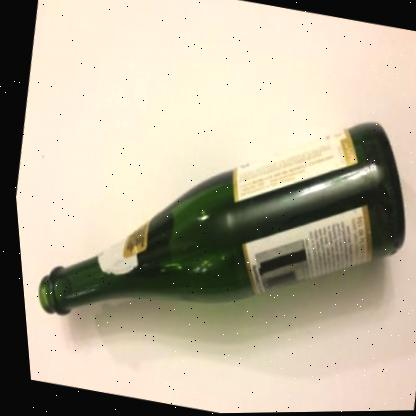Glass: (32, 123, 401, 314)
